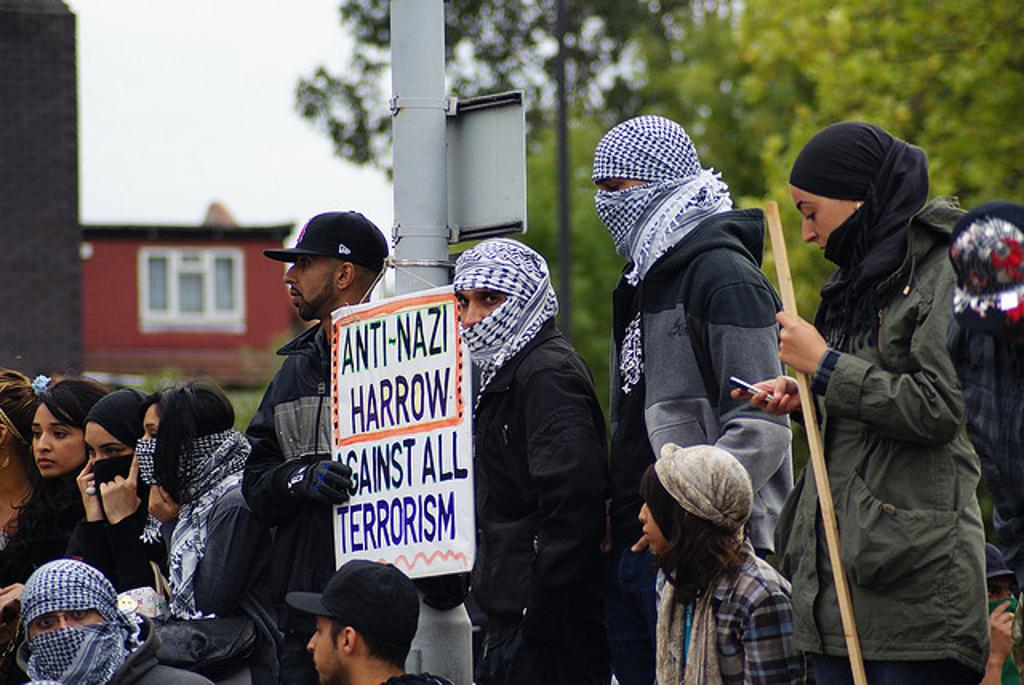face: (28, 598, 107, 674), (789, 174, 855, 262), (596, 162, 651, 250), (283, 246, 335, 322), (456, 282, 510, 354), (32, 411, 85, 479), (86, 422, 136, 487), (639, 480, 680, 555), (307, 613, 343, 685), (138, 413, 170, 476), (980, 310, 1024, 344), (987, 575, 1009, 613)
